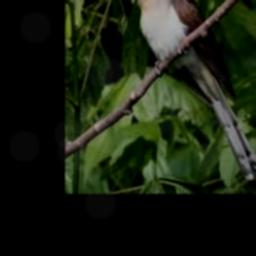Cuckoo: (125, 0, 256, 184)
